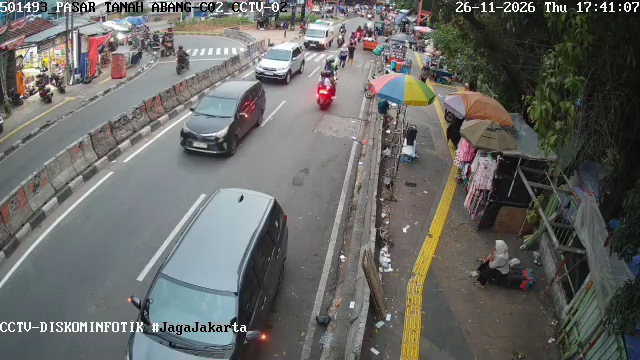Gerobak: (382, 101, 422, 163)
